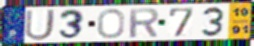3: (57, 8, 88, 41), (200, 6, 226, 38)
7: (167, 6, 196, 38)
O: (96, 8, 126, 40)
R: (128, 7, 161, 39)
U: (23, 8, 58, 42)
